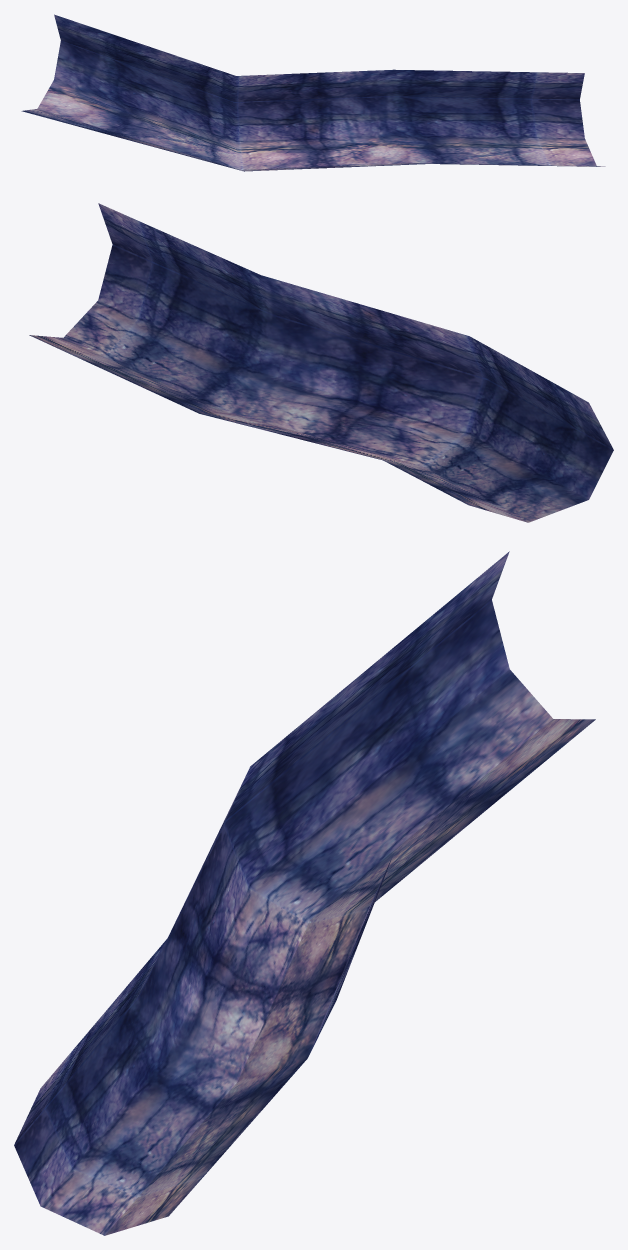
3 views of the same model, one above another, from view 1: azimuth 30°, elevation 25°; view 2: azimuth 150°, elevation 25°; view 3: azimuth 270°, elevation 25° (orthographic). The views are drawn at different scales.
Visible parts, largest first — view 1: 115; view 2: 115; view 3: 115.
Part boxes in pixels (x1=…): 115: x1=21, y1=14, x2=605, y2=171; 115: x1=29, y1=203, x2=613, y2=522; 115: x1=14, y1=551, x2=595, y2=1235.
Size of the model in its own units: 20584 by 6718 by 12207.
Materials: 1 (1 with a texture image).
